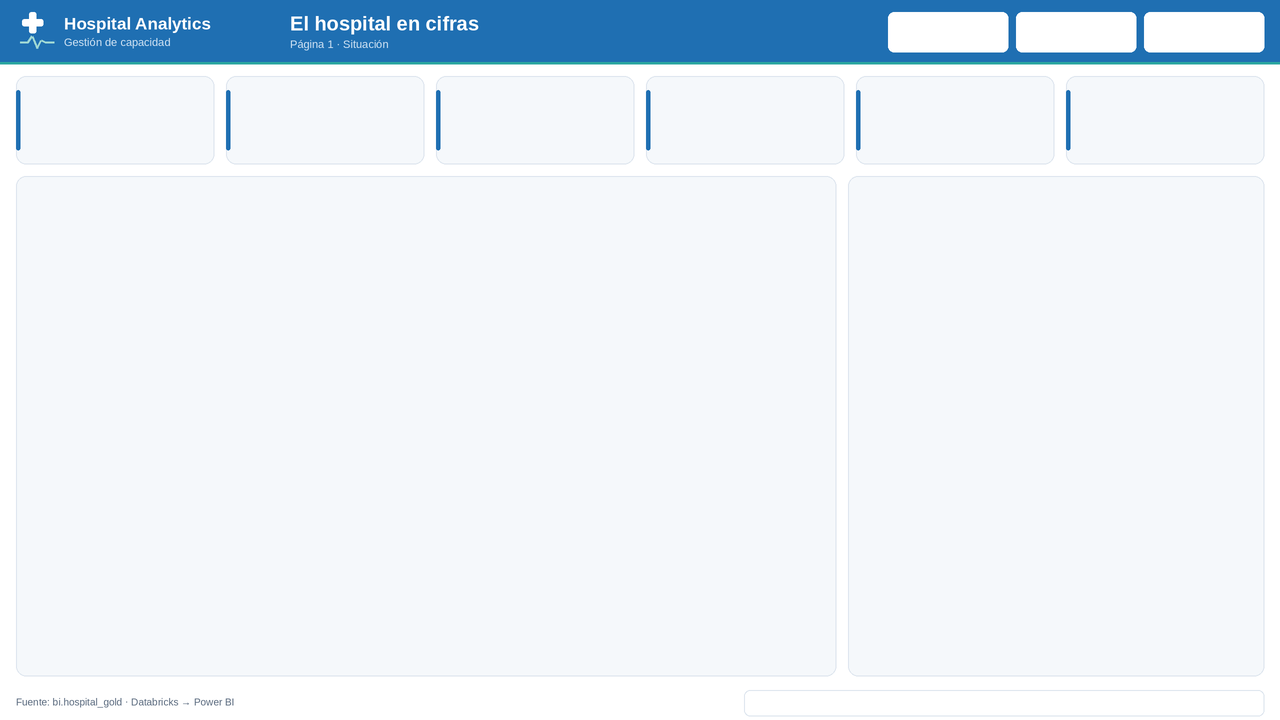

The dashboard page shown, as its layout file describes it:
{"tool":"powerbi","page":{"name":"1 Situación","canvas":[1920,1080],"ordinal":1},"visuals":[{"type":"card","fields":{"Values":["_Medidas.Total Citas"]},"box":[39,120,276,120],"z":0},{"type":"card","fields":{"Values":["_Medidas.Recaudo Citas"]},"box":[354,120,276,120],"z":1000},{"type":"card","fields":{"Values":["_Medidas.Pacientes con Cita"]},"box":[669,120,276,120],"z":2000},{"type":"card","fields":{"Values":["_Medidas.Total Estancias"]},"box":[984,120,276,120],"z":3000},{"type":"card","fields":{"Values":["_Medidas.Estancia Promedio (días)"]},"box":[1299,120,276,120],"z":4000},{"type":"card","fields":{"Values":["_Medidas.Total Cirugías"]},"box":[1614,120,276,120],"z":5000},{"type":"lineClusteredColumnComboChart","title":"Entre 66 y 100 citas al mes: pico en diciembre de 2024","fields":{"Category":["dim_date.year_month"],"Y":["_Medidas.Total Citas"],"Y2":["_Medidas.Recaudo Citas"]},"box":[31.7,264.6,1230,750],"z":6000},{"type":"clusteredBarChart","title":"3 de cada 4 citas se completan","fields":{"Category":["fact_appointments.status"],"Y":["_Medidas.Total Citas"]},"box":[1272,264,624,750],"z":7000},{"type":"slicer","fields":{"Values":["dim_date.year"]},"box":[1332,18,180,60],"z":8000},{"type":"slicer","fields":{"Values":["dim_date.quarter_name"]},"box":[1524,18,180,60],"z":9000},{"type":"slicer","fields":{"Values":["dim_departments.department_name"]},"box":[1716,18,180,60],"z":10000},{"type":"pageNavigator","box":[1116,1035,780,39],"z":11000}]}

Visuals, with their boxes in screenshot pixels (x1, y1, x2, y2), scaled from the page's 1920x1080 canvas onto the 1280x720 screenshot:
card - _Medidas.Total Citas: rect(26, 80, 210, 160)
card - _Medidas.Recaudo Citas: rect(236, 80, 420, 160)
card - _Medidas.Pacientes con Cita: rect(446, 80, 630, 160)
card - _Medidas.Total Estancias: rect(656, 80, 840, 160)
card - _Medidas.Estancia Promedio (días): rect(866, 80, 1050, 160)
card - _Medidas.Total Cirugías: rect(1076, 80, 1260, 160)
"Entre 66 y 100 citas al mes: pico en diciembre de 2024" lineClusteredColumnComboChart: rect(21, 176, 841, 676)
"3 de cada 4 citas se completan" clusteredBarChart: rect(848, 176, 1264, 676)
slicer - dim_date.year: rect(888, 12, 1008, 52)
slicer - dim_date.quarter_name: rect(1016, 12, 1136, 52)
slicer - dim_departments.department_name: rect(1144, 12, 1264, 52)
pageNavigator: rect(744, 690, 1264, 716)
